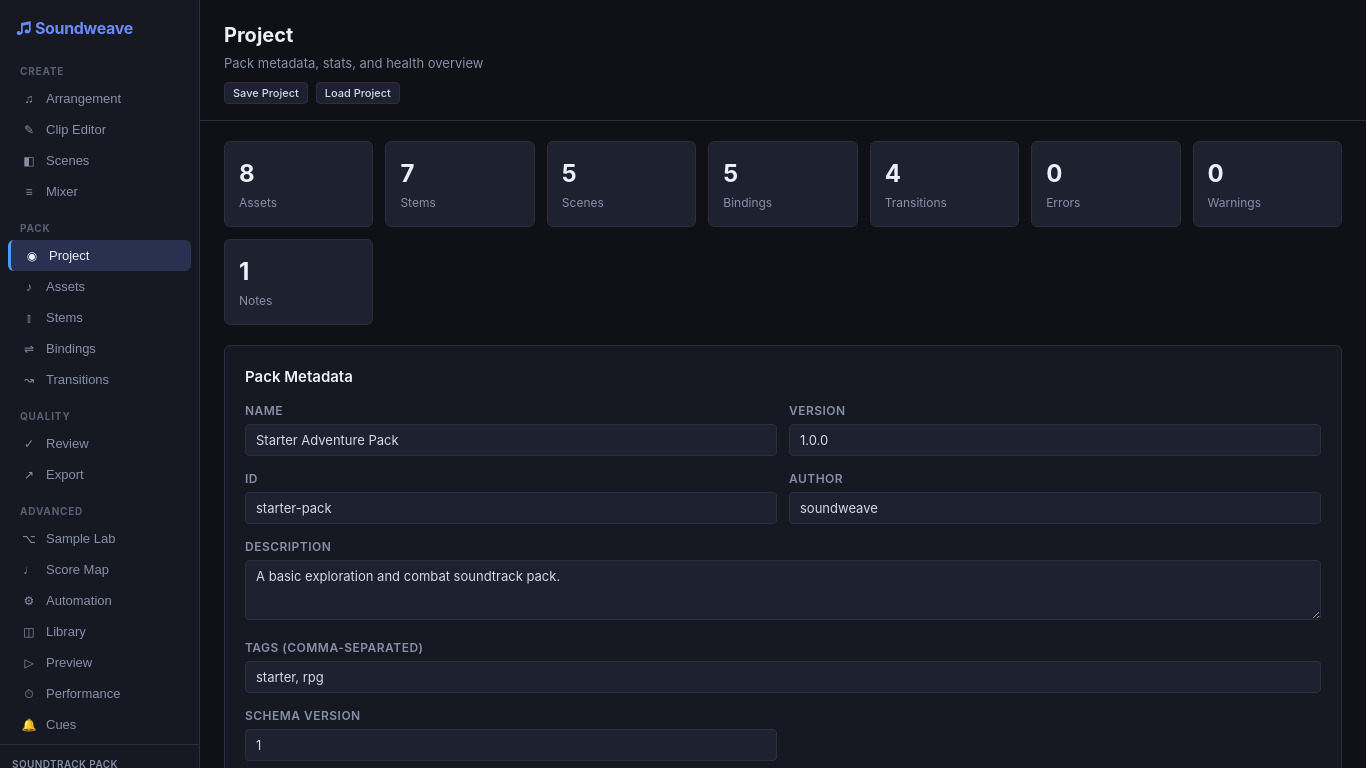
Test: Export screen — rendering › navigates to export screen
The image size is (1366, 768).
Step 1. Click the button "↗ Export" → (100, 474), box [8,459,191,490]
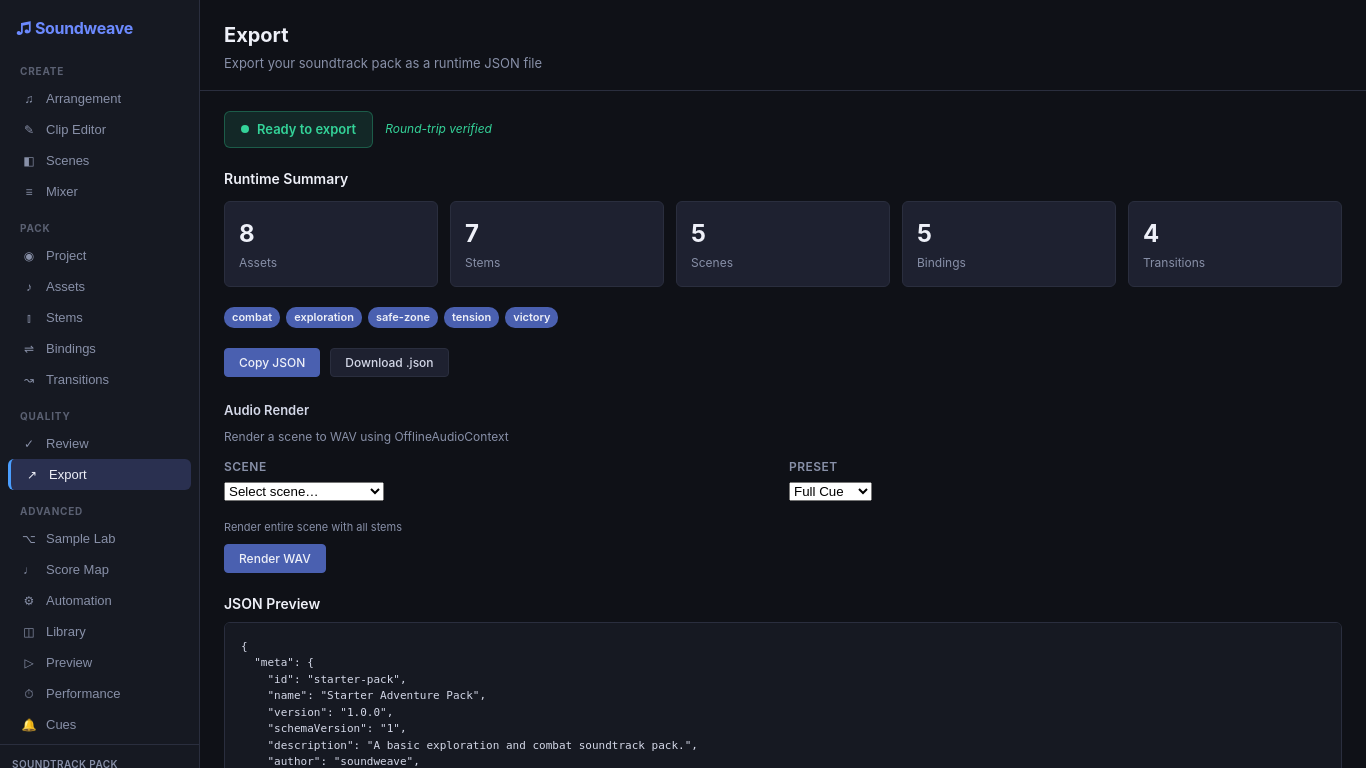
expect the text "Export your soundtrack pack as a runtime JSON file" is shown: met, box [224,55,542,71]
